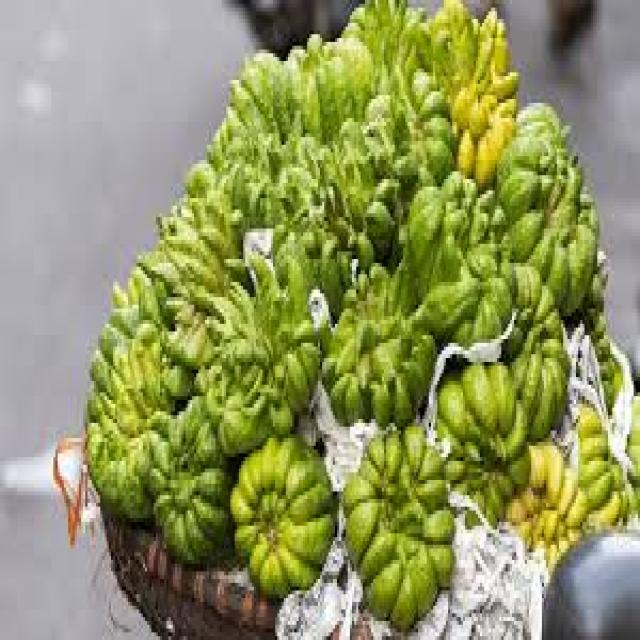PhatThu: (351, 427, 453, 627), (504, 100, 596, 308), (219, 258, 326, 409), (235, 440, 334, 598), (411, 180, 506, 344), (83, 322, 164, 507), (333, 269, 427, 424), (436, 368, 528, 522), (149, 402, 225, 549)
